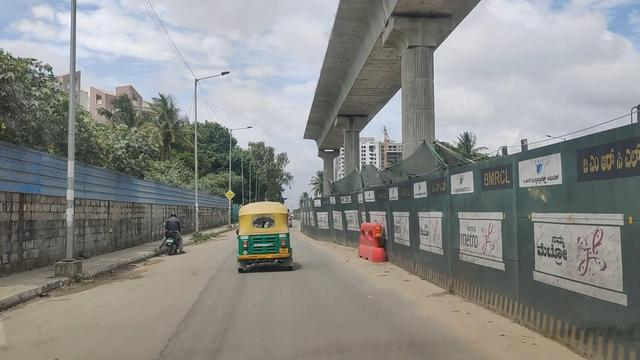LMV: (227, 197, 295, 279), (161, 208, 187, 260)
